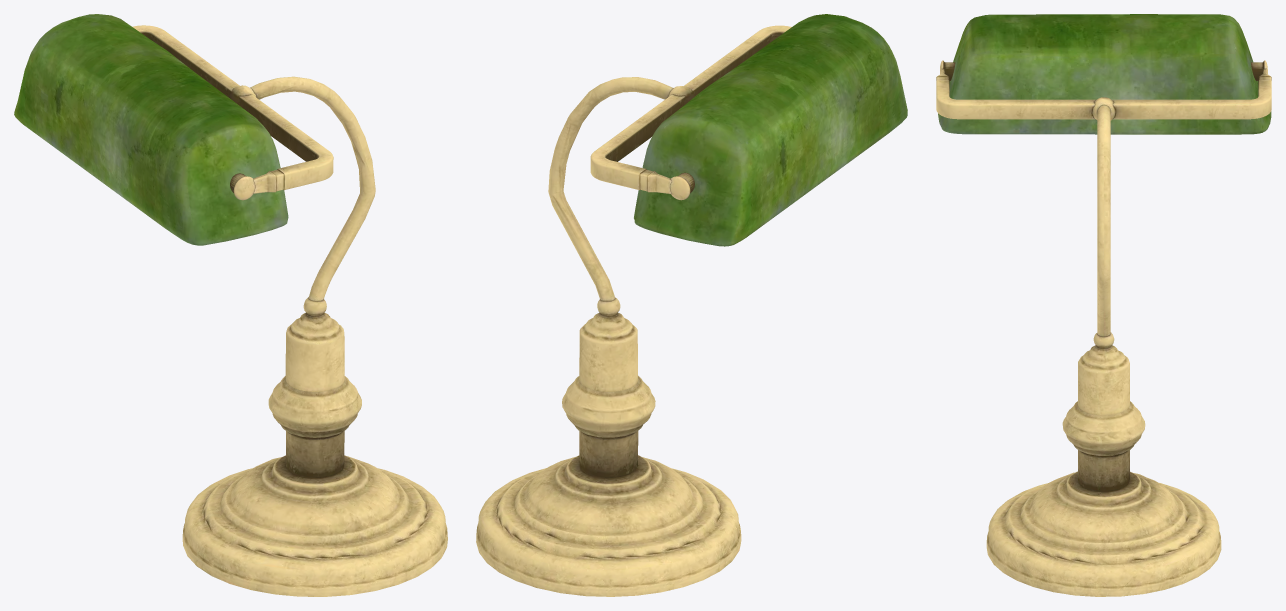
3 views of the same model, side by side, from view 1: azimuth 30°, elevation 25°; view 2: azimuth 150°, elevation 25°; view 3: azimuth 270°, elevation 25° (orthographic). The views are drawn at different scales.
Visible parts, largest first — view 1: retro table lamp-Freepoly.org; view 2: retro table lamp-Freepoly.org; view 3: retro table lamp-Freepoly.org.
Boxes of the visible parts, x1=… form: retro table lamp-Freepoly.org: x1=14, y1=14, x2=447, y2=596; retro table lamp-Freepoly.org: x1=476, y1=14, x2=907, y2=596; retro table lamp-Freepoly.org: x1=936, y1=14, x2=1271, y2=596.
Size of the model in its own units: 0.2515 by 0.3738 by 0.2494.
Materials: 1 (1 with a texture image).
